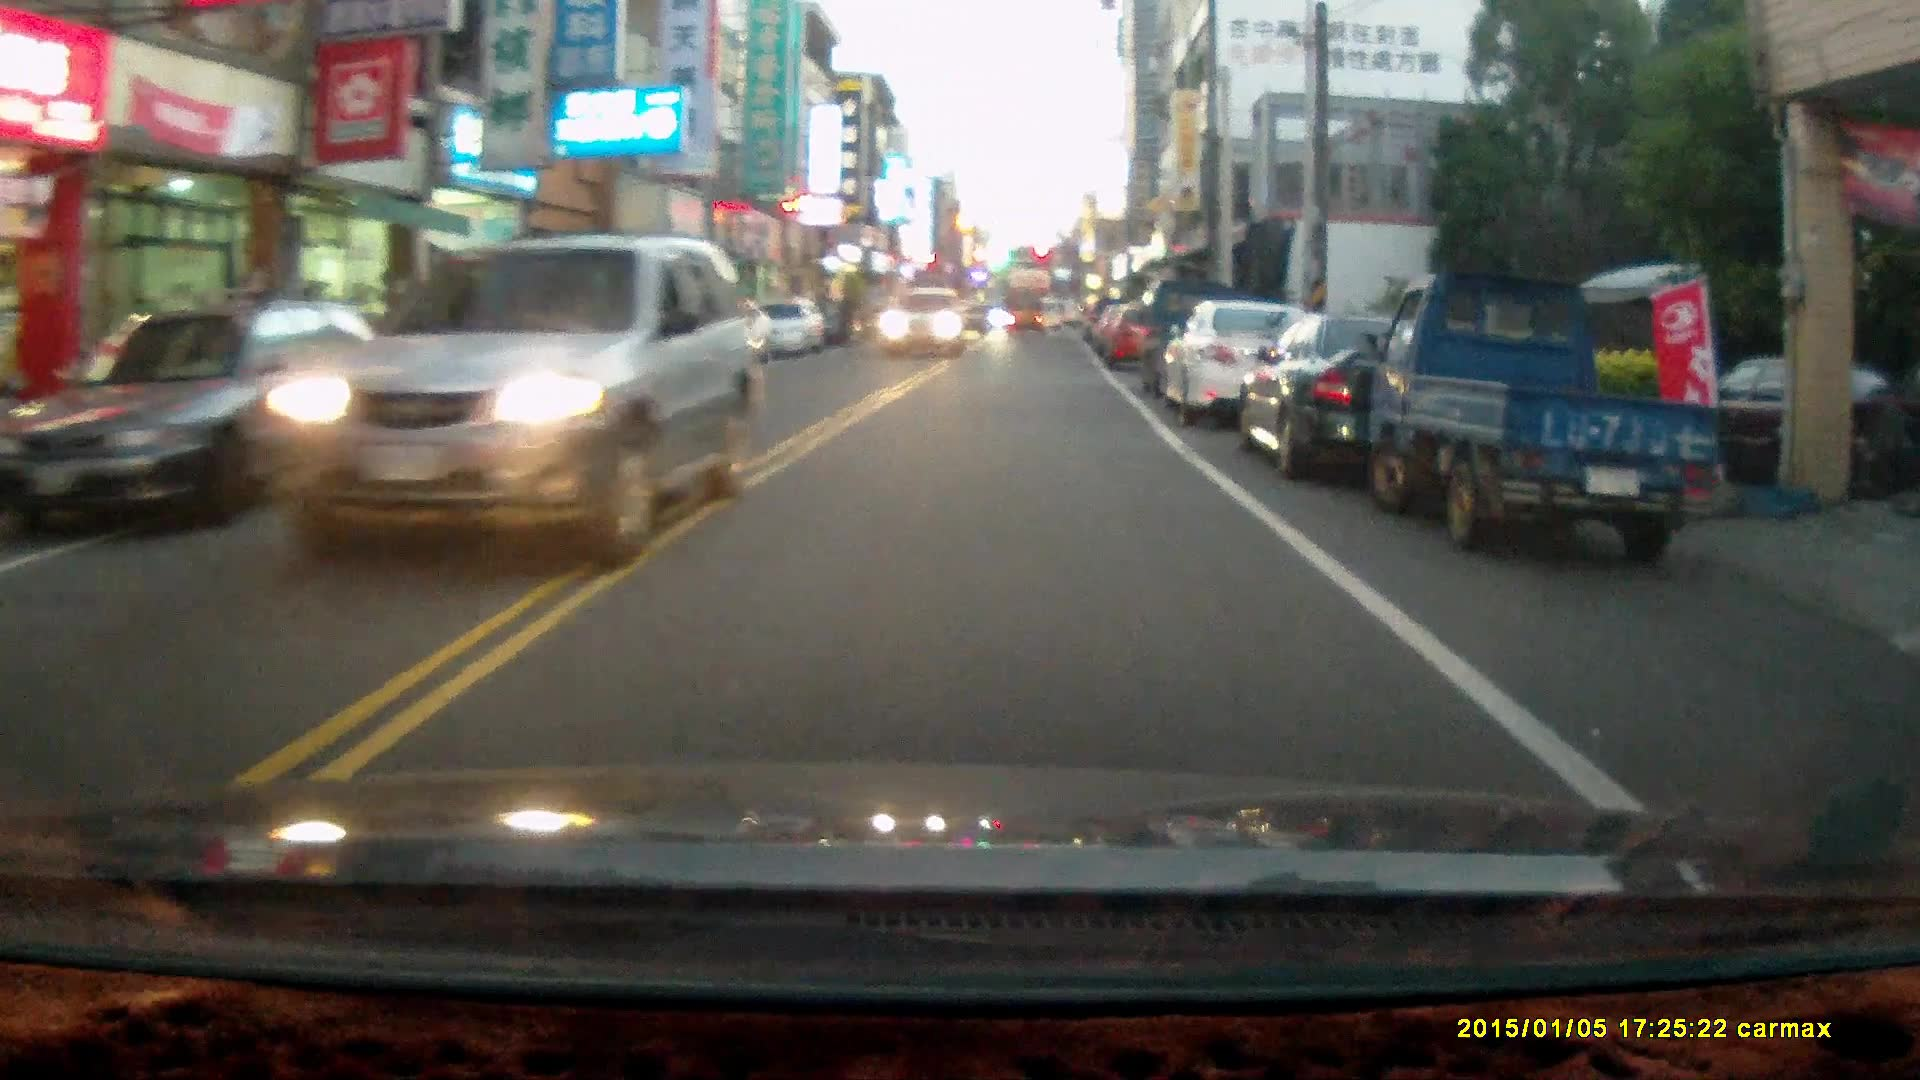vehicle: (261, 229, 769, 564), (1365, 272, 1724, 568), (16, 295, 422, 534), (1240, 309, 1527, 484), (1155, 301, 1332, 426), (882, 286, 969, 363), (1098, 303, 1178, 375), (1004, 290, 1047, 339)
